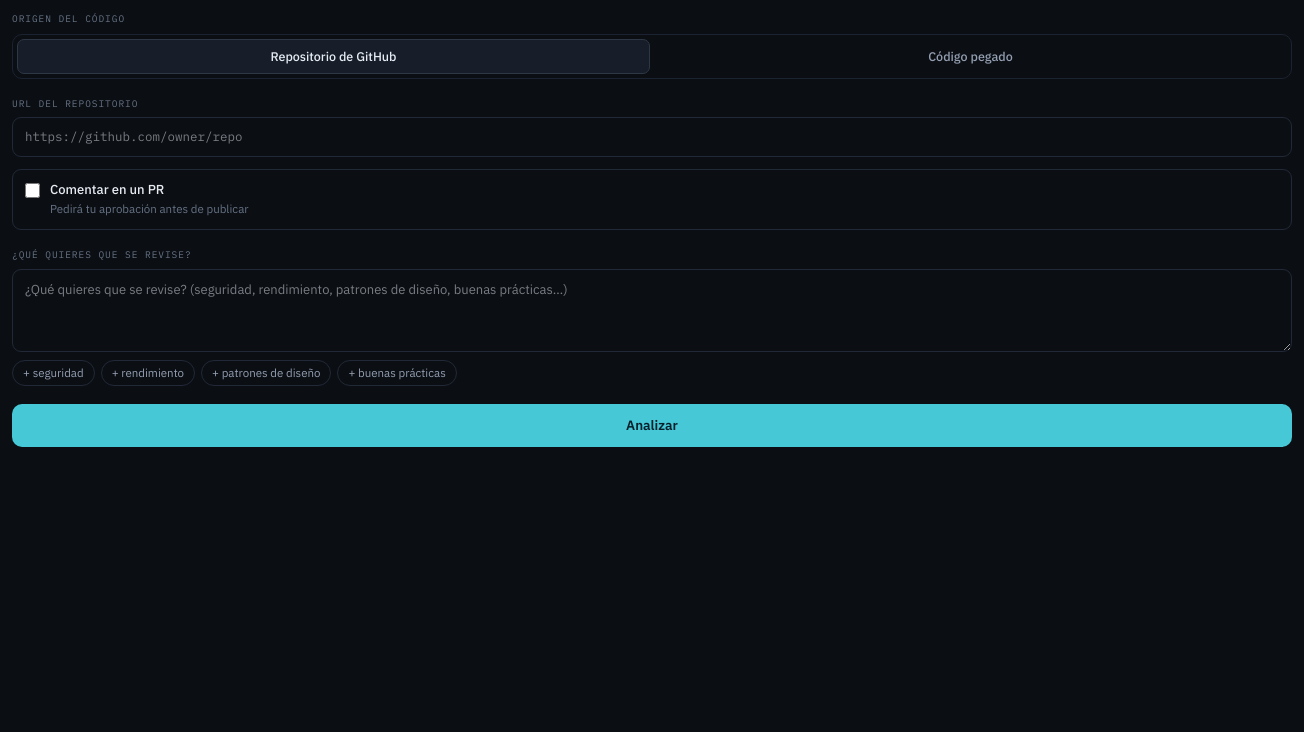
Test: NewAnalysisForm › switches to the pasted-code field when that source is selected
Click the radio button labelled "Código pegado" at (970, 56), box left=928, top=48, right=1013, bottom=64
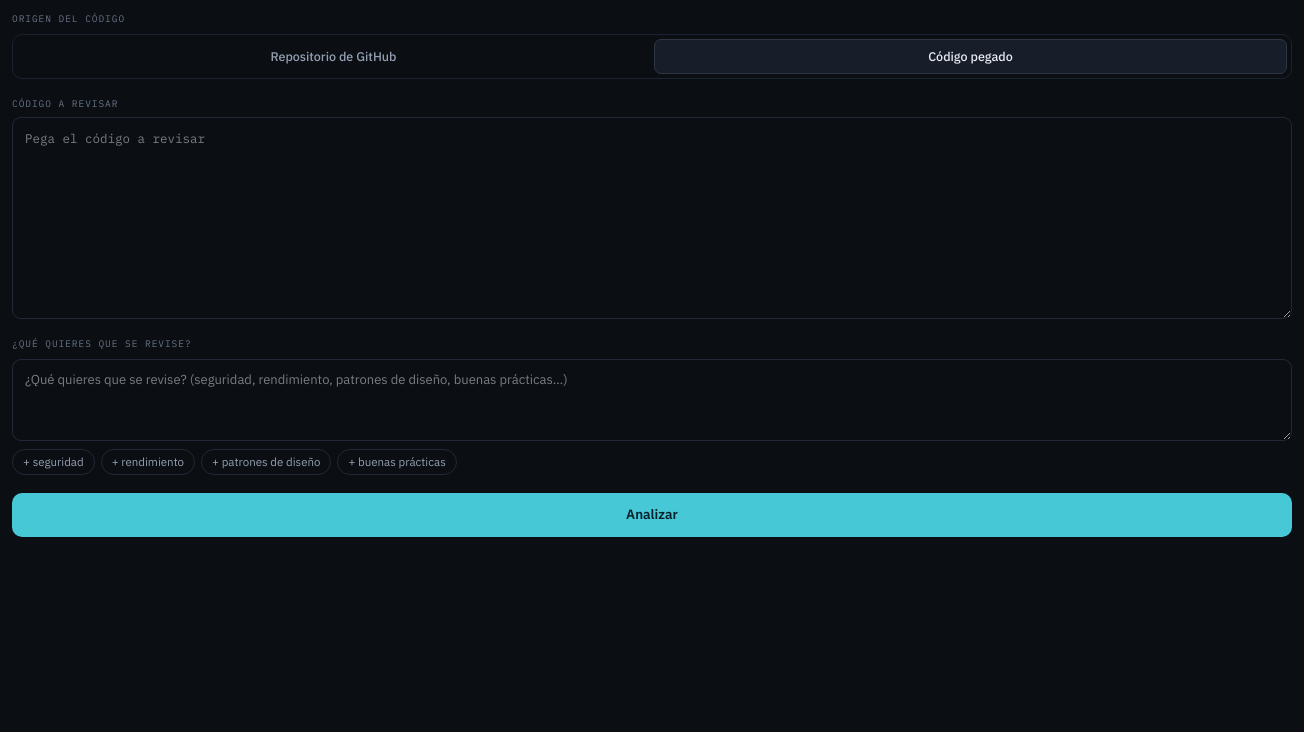
Expected: the field with placeholder "https://github.com/owner/repo" is not shown
Expected: the text box with placeholder "Pega el código a revisar" is shown, left=12, top=117, right=1292, bottom=319
